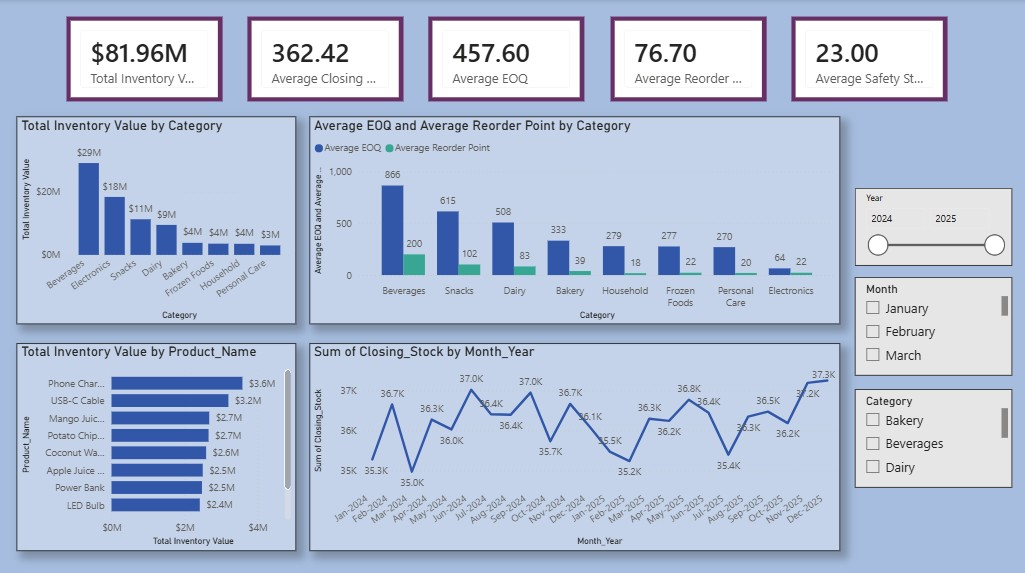

The dashboard page shown, as its layout file describes it:
{"tool":"powerbi","page":{"name":"Inventory Analytics","canvas":[1280,720],"ordinal":1},"visuals":[{"type":"clusteredColumnChart","fields":{"Category":["Products.Category"],"Y":["Measures (2).Total Inventory Value"]},"box":[21.7,146.6,348.8,259.5],"z":0},{"type":"clusteredBarChart","fields":{"Category":["Products.Product_Name"],"Y":["Measures (2).Total Inventory Value"]},"box":[21.7,429.6,348.8,259.5],"z":1000},{"type":"lineChart","fields":{"Category":["Dates.Month_Year"],"Y":["Sum(Inventory.Closing_Stock)"]},"box":[387.5,429.6,662.1,259.5],"z":2000},{"type":"clusteredColumnChart","fields":{"Y":["Measures (2).Average EOQ","Measures (2).Average Reorder Point"],"Category":["Products.Category"]},"box":[387.5,146.6,662.1,259.5],"z":3000},{"type":"slicer","fields":{"Values":["Dates.Year"]},"box":[1068.3,235.1,196.5,96.7],"z":4000},{"type":"slicer","fields":{"Values":["Dates.Month"]},"box":[1068.3,347.4,196.5,123.2],"z":5000},{"type":"slicer","fields":{"Values":["Products.Category"]},"box":[1068.3,486.2,196.5,123.2],"z":6000},{"type":"cardVisual","fields":{"Data":["Measures (2).Total Inventory Value"]},"box":[84.2,21.8,194.9,106],"z":7000},{"type":"cardVisual","fields":{"Data":["Measures (2).Average Closing Stock"]},"box":[310.4,21.8,194.9,106],"z":8000},{"type":"cardVisual","fields":{"Data":["Measures (2).Average EOQ"]},"box":[536.5,21.8,194.9,106],"z":9000},{"type":"cardVisual","fields":{"Data":["Measures (2).Average Reorder Point"]},"box":[762.6,21.8,194.9,106],"z":10000},{"type":"cardVisual","fields":{"Data":["Measures (2).Average Safety Stock"]},"box":[988.8,21.8,194.9,106],"z":11000}]}

Visuals, with their boxes in screenshot pixels (x1, y1, x2, y2), scaled from the page's 1280x720 canvas onto the 1025x573 screenshot:
clusteredColumnChart - Products.Category x Measures (2).Total Inventory Value: (17,117,297,323)
clusteredBarChart - Products.Product_Name x Measures (2).Total Inventory Value: (17,342,297,548)
lineChart - Dates.Month_Year x Sum(Inventory.Closing_Stock): (310,342,840,548)
clusteredColumnChart - Measures (2).Average EOQ x Measures (2).Average Reorder Point: (310,117,840,323)
slicer - Dates.Year: (855,187,1013,264)
slicer - Dates.Month: (855,276,1013,375)
slicer - Products.Category: (855,387,1013,485)
cardVisual - Measures (2).Total Inventory Value: (67,17,223,102)
cardVisual - Measures (2).Average Closing Stock: (249,17,405,102)
cardVisual - Measures (2).Average EOQ: (430,17,586,102)
cardVisual - Measures (2).Average Reorder Point: (611,17,767,102)
cardVisual - Measures (2).Average Safety Stock: (792,17,948,102)
